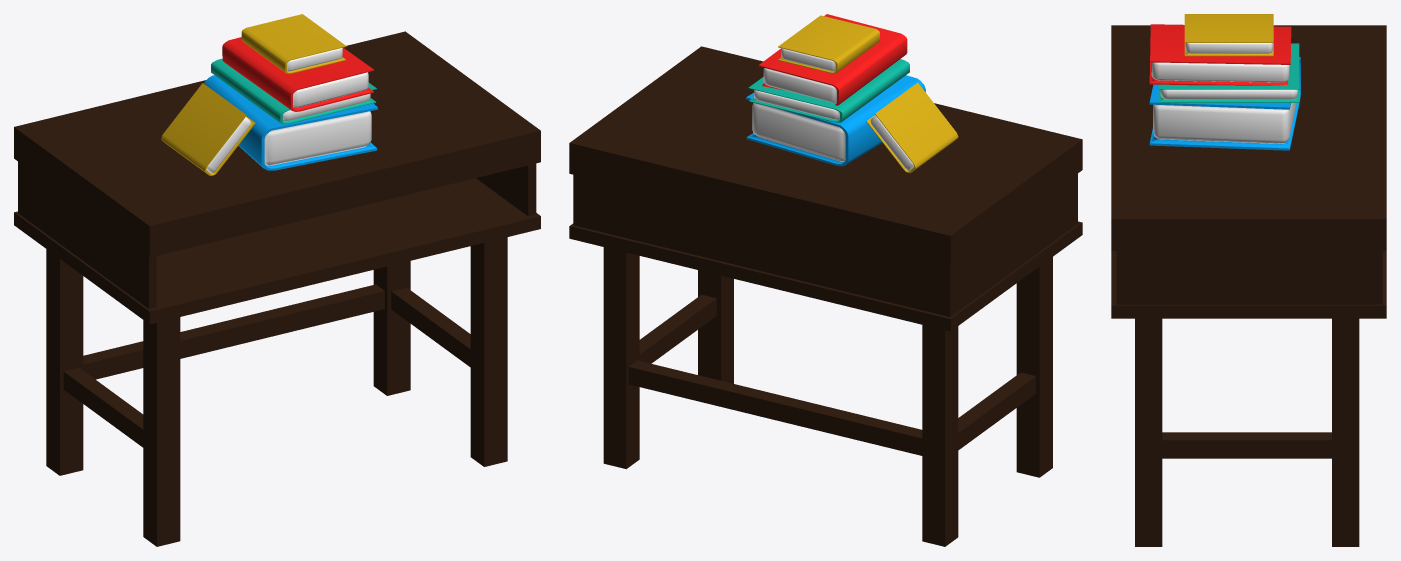
The picture shows the model from 3 angles, left to right: view 1: azimuth 30°, elevation 25°; view 2: azimuth 150°, elevation 25°; view 3: azimuth 270°, elevation 25°; orthographic projection. The views are drawn at different scales.
Visible parts, largest first — view 1: Box001, Box003, C-Ext001, Box002, Box006, Box004, Box007, ChamferBox004, ChamferBox003, ChamferBox009, Box005, ChamferBox008 (+3 smaller); view 2: Box001, C-Ext001, Box004, Box007, Box003, Box005, Box002, ChamferBox004, ChamferBox003, ChamferBox009, ChamferBox008, Box006 (+3 smaller); view 3: Box001, C-Ext001, ChamferBox004, Box005, Box006, ChamferBox003, Box003, Box009, ChamferBox008, ChamferBox005.
Boxes of the visible parts, left/top/right/bottom form: Box001: left=14, top=31, right=540, bottom=257; Box003: left=14, top=178, right=540, bottom=324; C-Ext001: left=18, top=162, right=536, bottom=308; Box002: left=143, top=317, right=180, bottom=546; Box006: left=470, top=237, right=507, bottom=466; Box004: left=46, top=249, right=83, bottom=475; Box007: left=83, top=284, right=384, bottom=379; ChamferBox004: left=204, top=75, right=377, bottom=170; ChamferBox003: left=222, top=37, right=373, bottom=111; ChamferBox009: left=161, top=83, right=255, bottom=175; Box005: left=373, top=261, right=410, bottom=395; ChamferBox008: left=241, top=14, right=346, bottom=73; Box001: left=569, top=46, right=1082, bottom=266; C-Ext001: left=573, top=173, right=1077, bottom=317; Box004: left=922, top=325, right=958, bottom=546; Box007: left=628, top=360, right=922, bottom=455; Box003: left=569, top=221, right=1082, bottom=331; Box005: left=603, top=247, right=639, bottom=469; Box002: left=1016, top=257, right=1052, bottom=477; ChamferBox004: left=746, top=75, right=925, bottom=166; ChamferBox003: left=758, top=14, right=907, bottom=105; ChamferBox009: left=866, top=82, right=958, bottom=173; ChamferBox008: left=778, top=15, right=879, bottom=73; Box006: left=698, top=270, right=733, bottom=383; Box001: left=1111, top=25, right=1386, bottom=250; C-Ext001: left=1116, top=251, right=1382, bottom=304; ChamferBox004: left=1149, top=57, right=1300, bottom=150; Box005: left=1332, top=318, right=1359, bottom=546; Box006: left=1135, top=318, right=1162, bottom=546; ChamferBox003: left=1149, top=24, right=1291, bottom=85; Box003: left=1111, top=251, right=1386, bottom=318; Box009: left=1162, top=432, right=1331, bottom=458; ChamferBox008: left=1184, top=14, right=1273, bottom=56; ChamferBox005: left=1158, top=43, right=1299, bottom=102.
Bounding box in the file's own units: 50 × 52.58 × 30.
2 materials, 1 textured.
